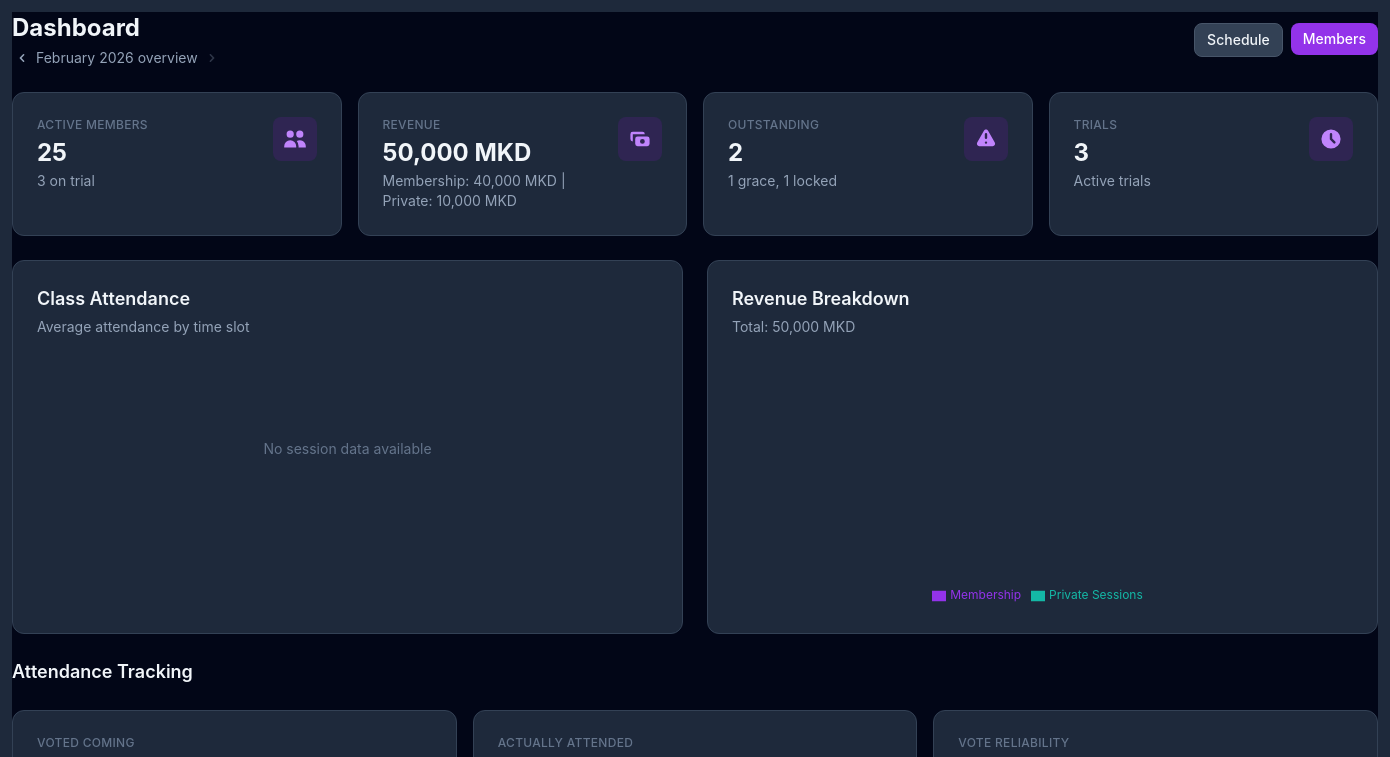
DashboardClient month navigator › updates Outstanding values after fetching previous month
Click the button named "Previous month".
click(22, 58)  # box [12, 48, 32, 68]
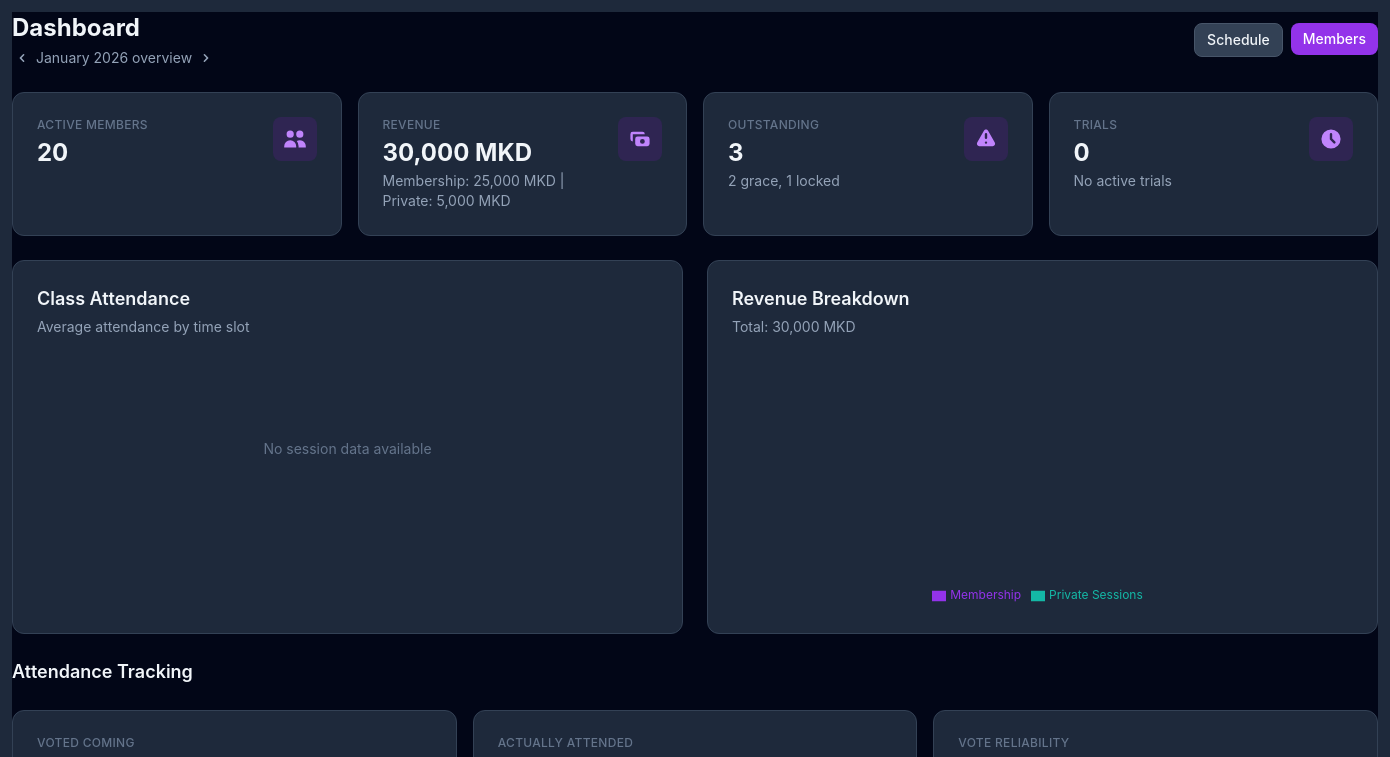
Now the text "3" is shown, box [728, 138, 744, 167]
Now the text "2 grace, 1 locked" is shown, box [728, 171, 840, 191]
